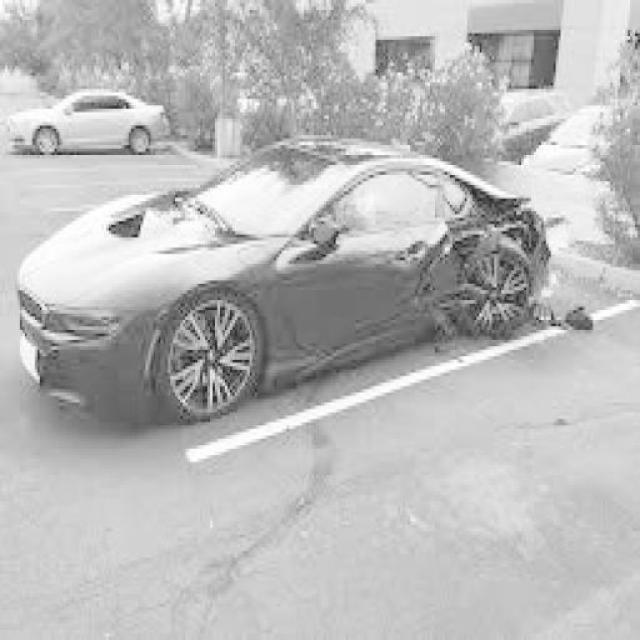car damage: (407, 168, 558, 332)
